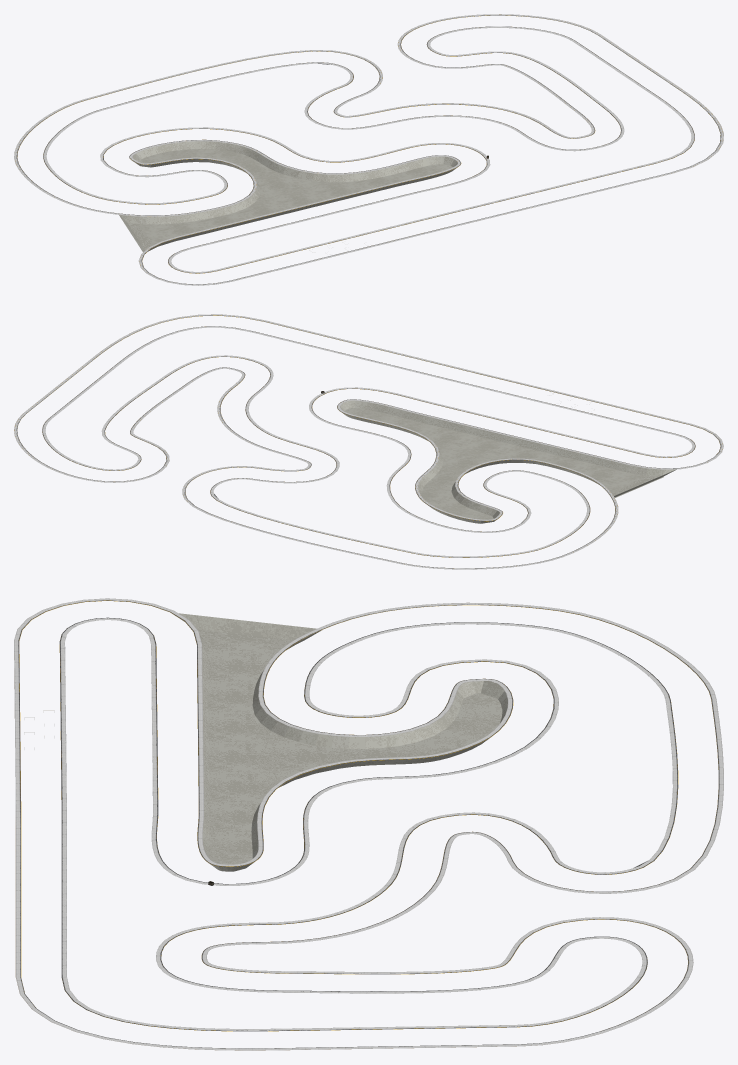
The model's file is fundo.obj.
The picture shows the model from 3 angles, top to bottom: view 1: azimuth 30°, elevation 25°; view 2: azimuth 150°, elevation 25°; view 3: azimuth 270°, elevation 25°; orthographic projection. The views are drawn at different scales.
Parts seen in each view (by area): view 1: Pond_Bench_Concrete_0; view 2: Pond_Bench_Concrete_0; view 3: Pond_Bench_Concrete_0.
Boxes of the visible parts, bbox=[...] form: Pond_Bench_Concrete_0: bbox=[14, 14, 723, 285]; Pond_Bench_Concrete_0: bbox=[14, 314, 723, 569]; Pond_Bench_Concrete_0: bbox=[14, 598, 723, 1050].
Size of the model in its own units: 1594 by 20.13 by 1058.
